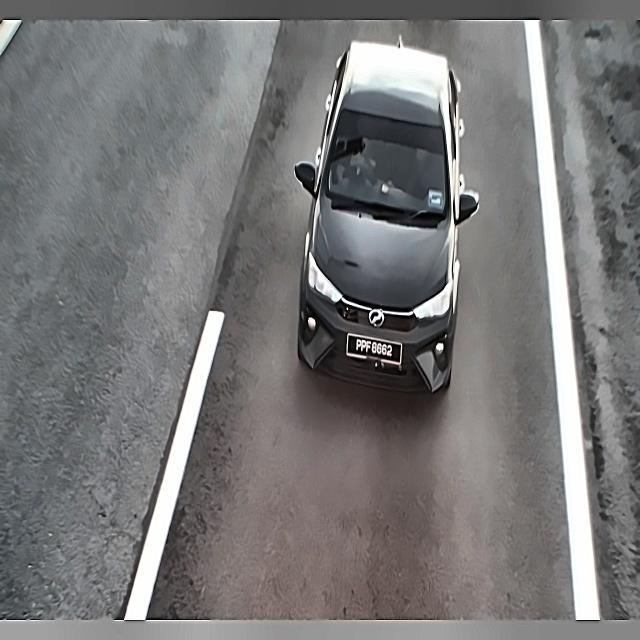car: (347, 330, 406, 369)
